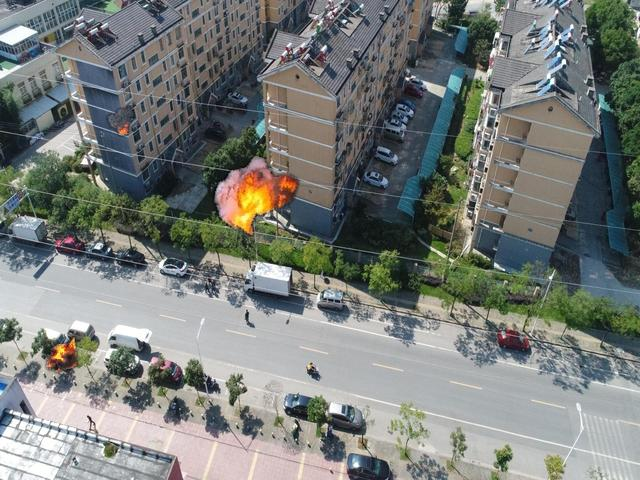fire: (212, 155, 299, 235), (45, 337, 78, 372), (107, 106, 134, 136)
